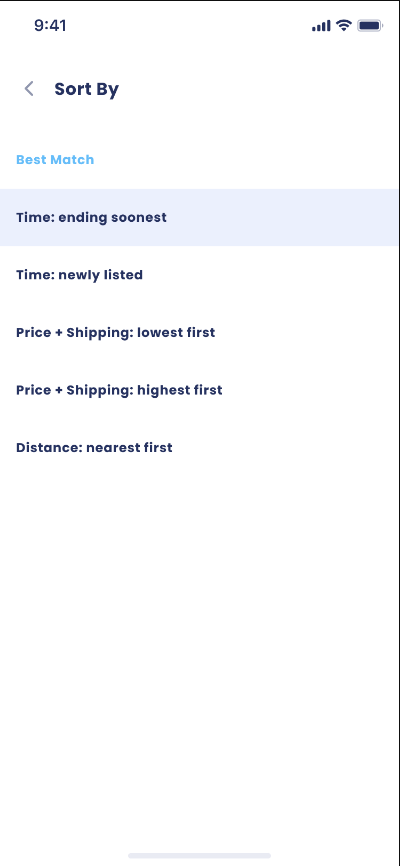AppBar: (1, 36, 400, 107)
